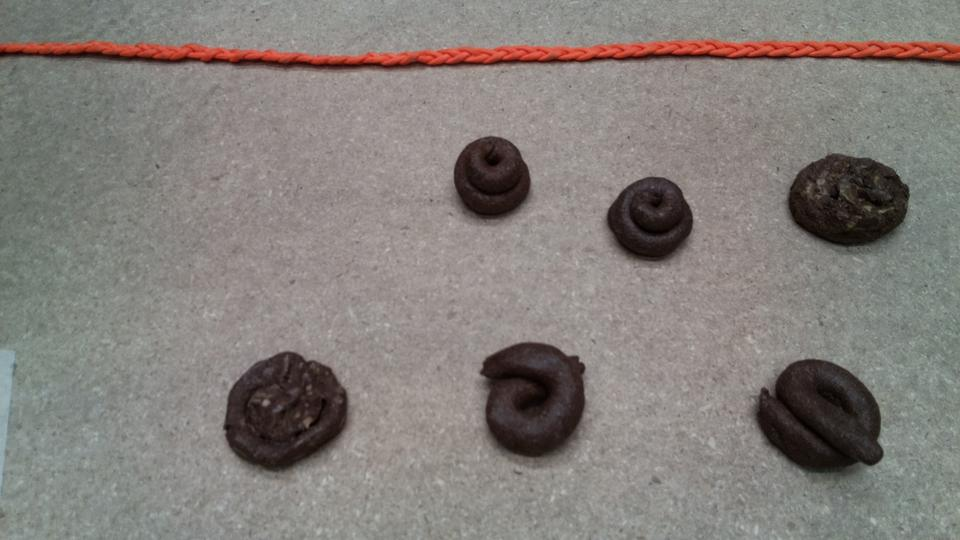poop: (748, 353, 889, 480), (224, 349, 355, 469), (781, 149, 915, 252), (477, 342, 596, 456), (604, 175, 696, 263), (453, 135, 538, 221)
rope: (1, 29, 960, 80)
